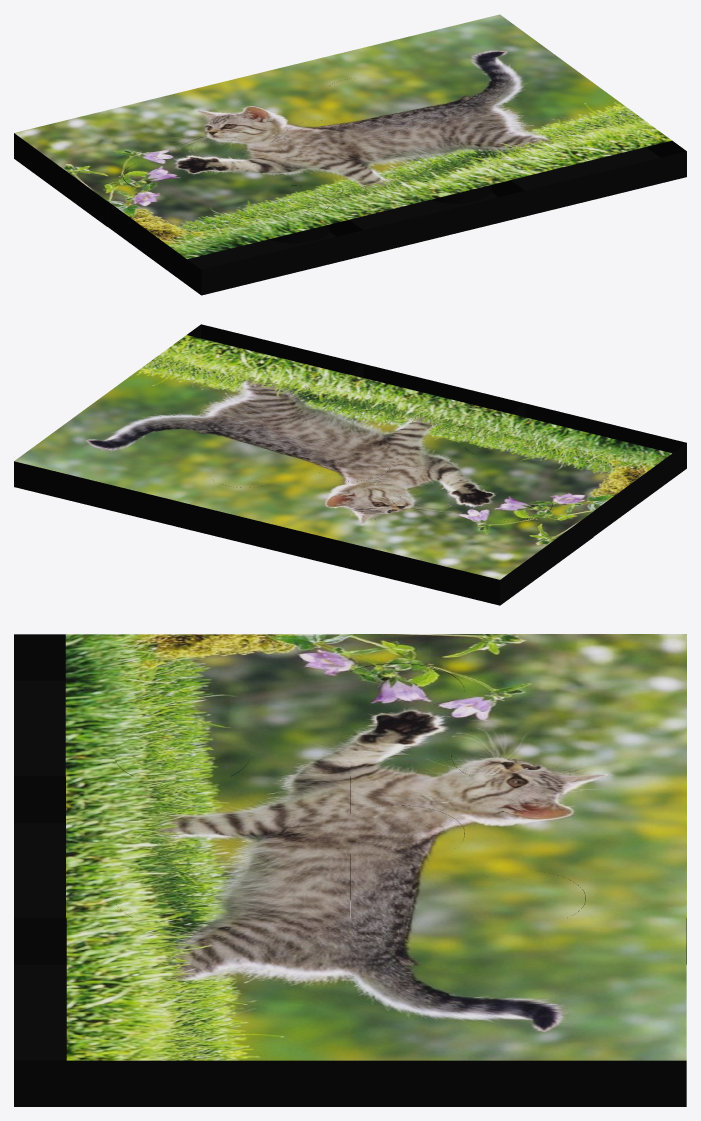
The model's file is Puuzzle PAE_Final(3x2).fbx.
3 views of the same model, one above another, from view 1: azimuth 30°, elevation 25°; view 2: azimuth 150°, elevation 25°; view 3: azimuth 270°, elevation 25° (orthographic). The views are drawn at different scales.
Parts seen in each view (by area): view 1: Puzle 1_Pieza_6, Puzle 1_Pieza_5, Puzle 1_Pieza_4, Puzle 1_Pieza_3, Puzle 1_Pieza_1, Puzle 1_Pieza_2; view 2: Puzle 1_Pieza_3, Puzle 1_Pieza_6, Puzle 1_Pieza_1, Puzle 1_Pieza_2, Puzle 1_Pieza_4, Puzle 1_Pieza_5; view 3: Puzle 1_Pieza_6, Puzle 1_Pieza_3, Puzle 1_Pieza_5, Puzle 1_Pieza_4, Puzle 1_Pieza_2, Puzle 1_Pieza_1.
Part boxes in pixels (<box>): Puzle 1_Pieza_6: <box>418,81,686,216</box>; Puzle 1_Pieza_5: <box>256,120,524,255</box>; Puzle 1_Pieza_4: <box>108,160,363,295</box>; Puzle 1_Pieza_3: <box>324,14,592,122</box>; Puzle 1_Pieza_1: <box>14,93,268,226</box>; Puzle 1_Pieza_2: <box>162,54,430,161</box>; Puzle 1_Pieza_3: <box>14,393,282,526</box>; Puzle 1_Pieza_6: <box>108,324,376,441</box>; Puzle 1_Pieza_1: <box>338,472,593,605</box>; Puzle 1_Pieza_2: <box>176,432,444,565</box>; Puzle 1_Pieza_4: <box>431,403,686,536</box>; Puzle 1_Pieza_5: <box>270,364,538,481</box>; Puzle 1_Pieza_6: <box>14,870,464,1106</box>; Puzle 1_Pieza_3: <box>350,870,686,1106</box>; Puzle 1_Pieza_5: <box>14,728,464,964</box>; Puzle 1_Pieza_4: <box>14,634,464,822</box>; Puzle 1_Pieza_2: <box>350,728,686,964</box>; Puzle 1_Pieza_1: <box>350,634,686,813</box>.
Size of the model in its own units: 3948 by 200 by 2633.
Materials: 1 (1 with a texture image).
